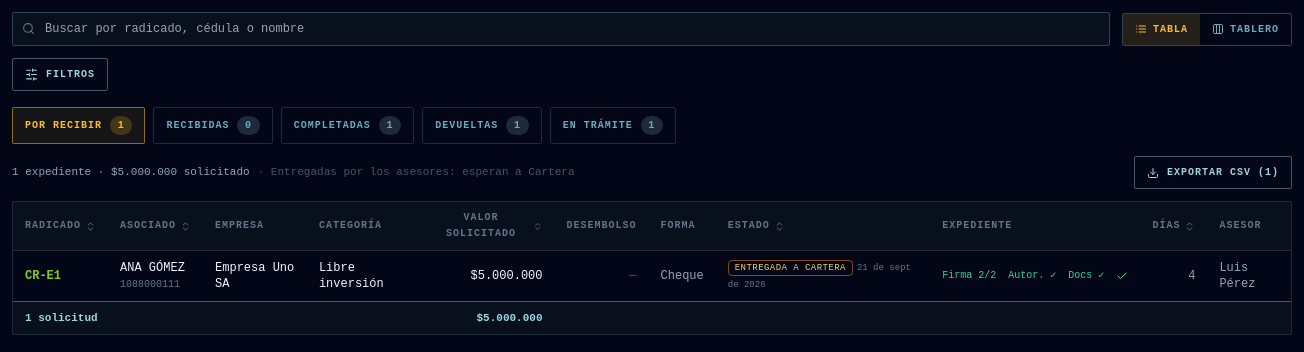
Test case: Bandeja de Cartera — tabla y pestañas › explica qué contiene la pestaña y resume cuántos hay y cuánto suman
The width and height of the screenshot is (1304, 352).
Expected: the link "CR-E1" is shown, x1=25 y1=269 x2=61 y2=283
Expected: the element named "Resumen de la bandeja" shows "1 expediente · $5.000.000 solicitado", x1=12 y1=166 x2=250 y2=178
Click the button "RECIBIDAS 0".
click(213, 126)  # box x1=153 y1=107 x2=273 y2=144
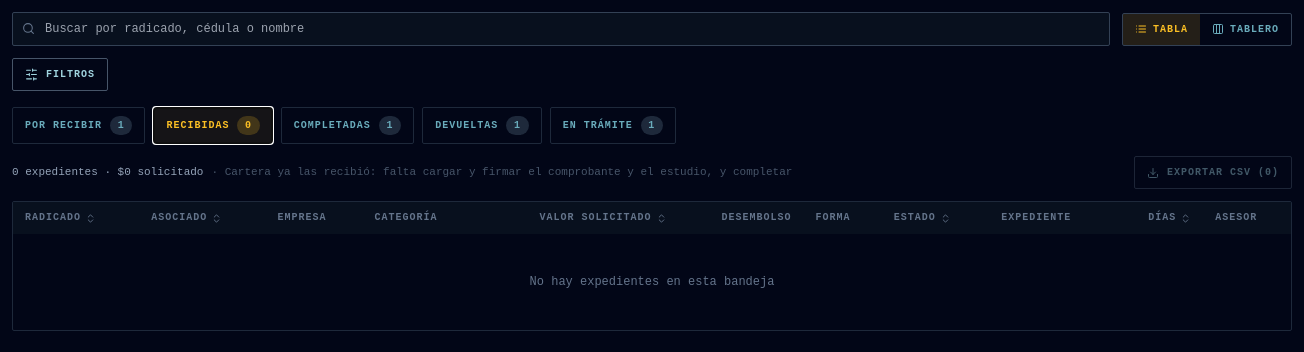
Expected: the text "No hay expedientes en esta bandeja" is shown, x1=13 y1=234 x2=1291 y2=330
Expected: the element named "Resumen de la bandeja" shows "0 expedientes · $0 solicitado", x1=12 y1=166 x2=203 y2=178
Expected: the element named "Resumen de la bandeja" shows "Cartera ya las recibió", x1=225 y1=166 x2=792 y2=178
